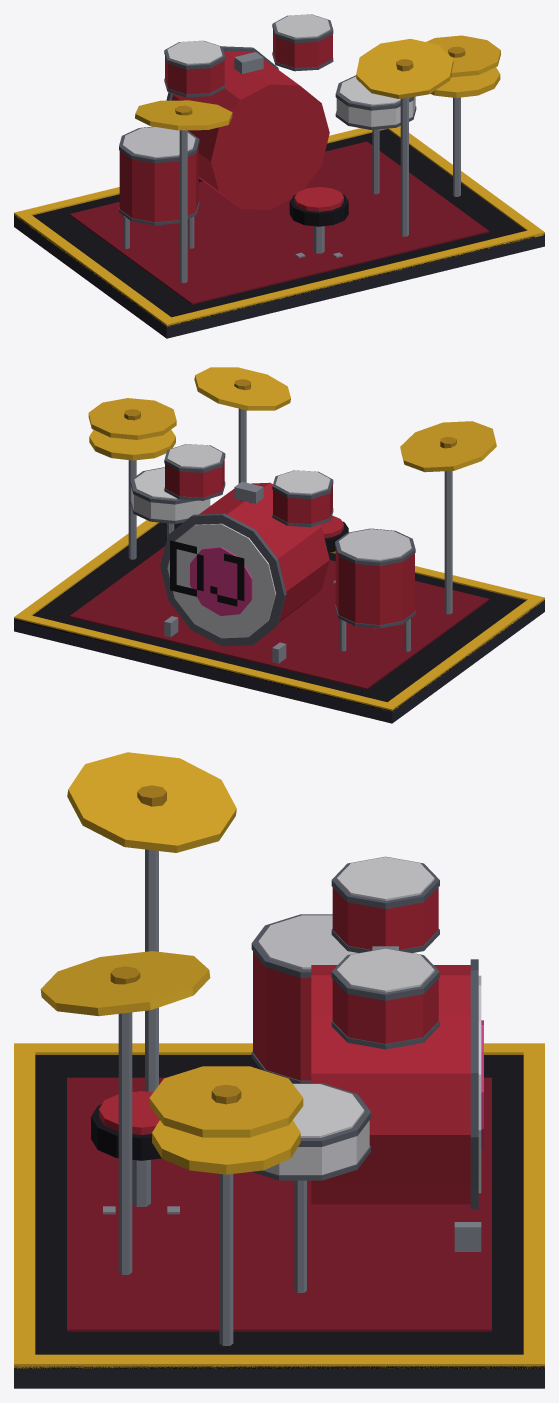
Rendered from Decor_DJStage_Drums.fbx.
3 views of the same model, one above another, from view 1: azimuth 30°, elevation 25°; view 2: azimuth 150°, elevation 25°; view 3: azimuth 270°, elevation 25° (orthographic). The views are drawn at different scales.
Parts seen in each view (by area): view 1: Drums_Body; view 2: Drums_Body; view 3: Drums_Body.
Boxes of the visible parts, x1,y1,x2,y2 form: Drums_Body: [14, 14, 544, 338]; Drums_Body: [14, 367, 544, 723]; Drums_Body: [14, 752, 544, 1388].
Bounding box in the file's own units: 14.7 × 6.88 × 10.
